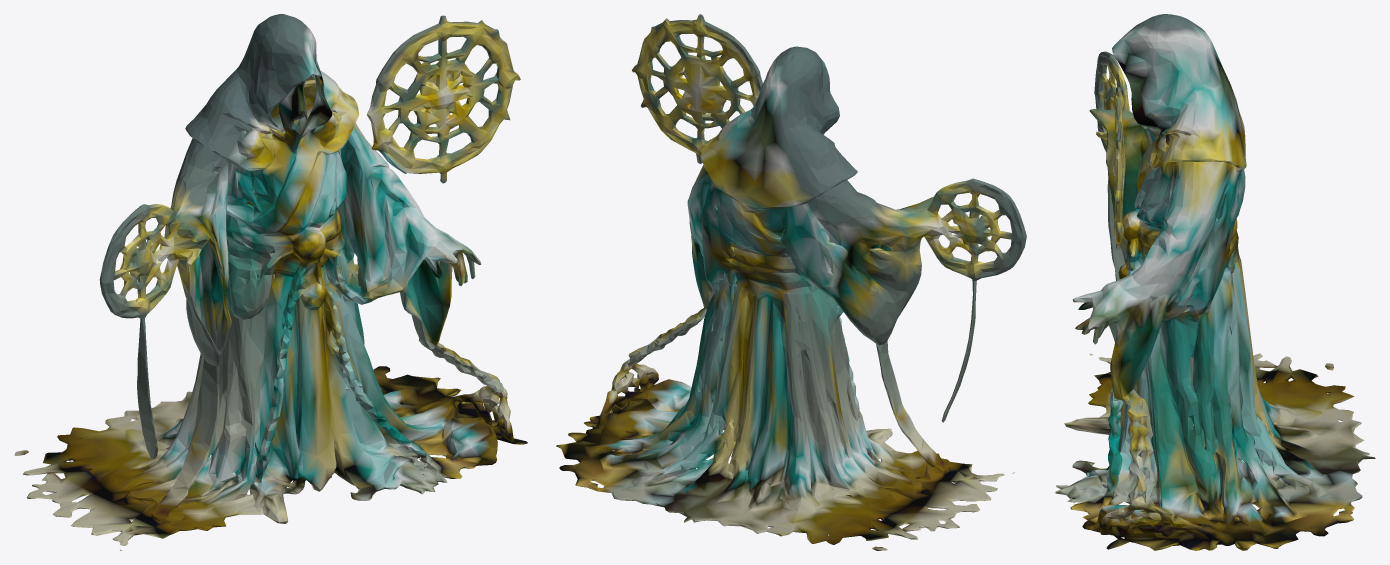
The model's file is wanderingSoul.glb.
3 renders of one model, left to right at view 1: azimuth 30°, elevation 25°; view 2: azimuth 150°, elevation 25°; view 3: azimuth 270°, elevation 25°, orthographic. The views are drawn at different scales.
Visible parts, largest first — view 1: world; view 2: world; view 3: world.
Boxes of the visible parts, x1,y1,x2,y2 form: world: (14,14,527,550); world: (556,14,1026,550); world: (1055,14,1375,550).
Size of the model in its own units: 0.9991 by 1 by 0.6612.
